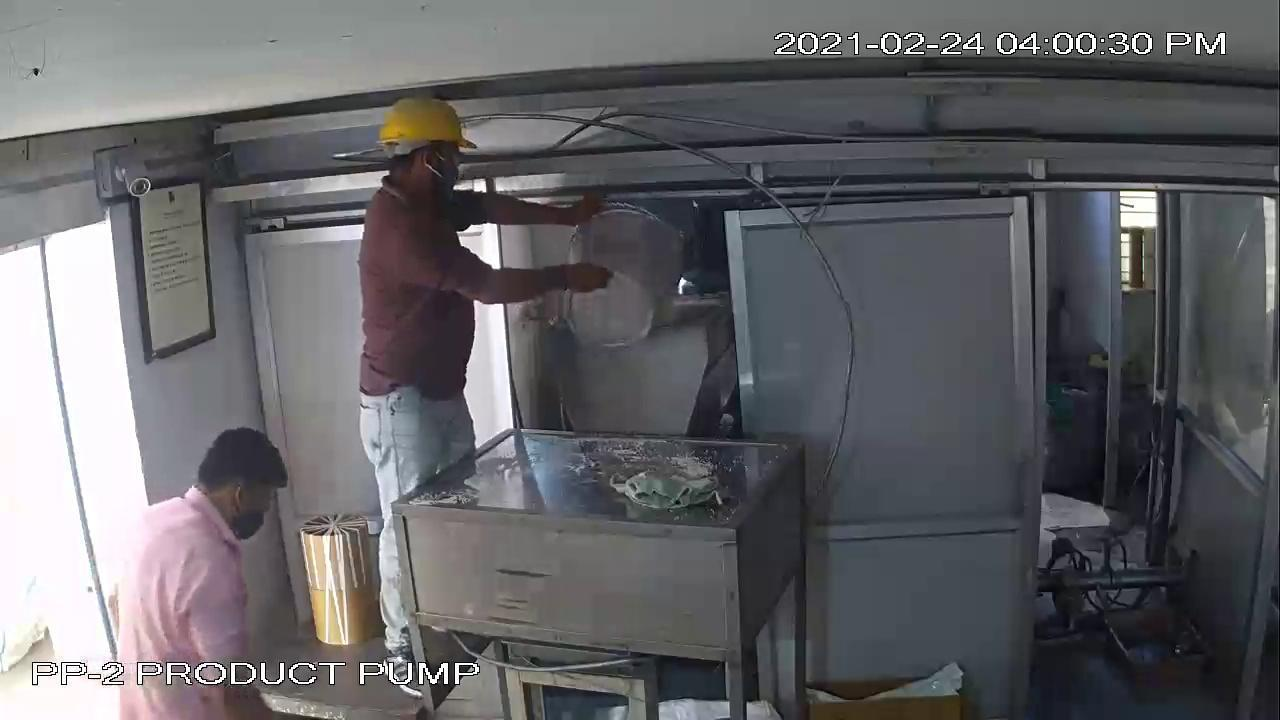helmet: (366, 87, 472, 161)
